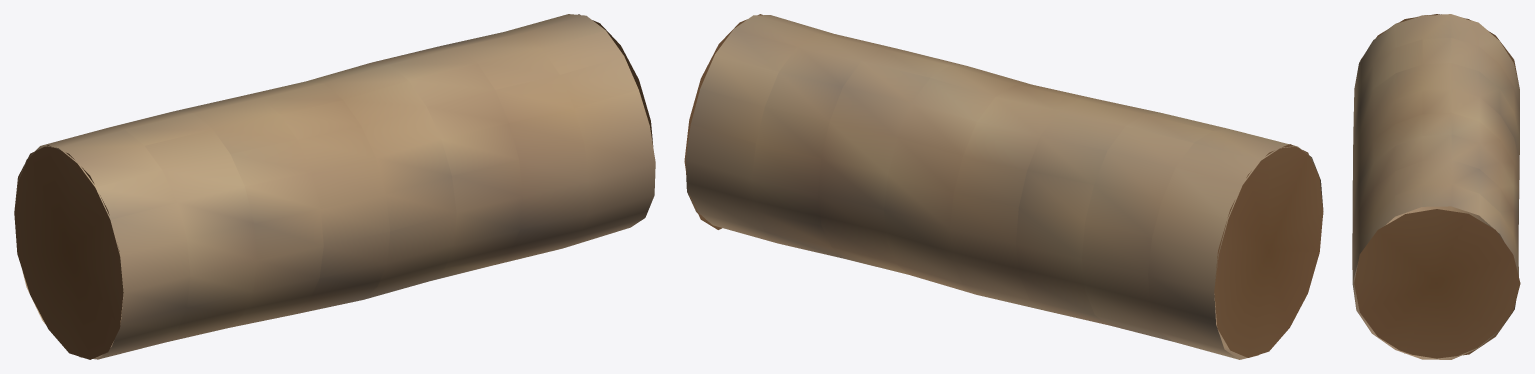
Rendered from PLN_Log_Cut.fbx.
3 views of the same model, side by side, from view 1: azimuth 30°, elevation 25°; view 2: azimuth 150°, elevation 25°; view 3: azimuth 270°, elevation 25° (orthographic). The views are drawn at different scales.
Visible parts, largest first — view 1: PLN_Log_Cut; view 2: PLN_Log_Cut; view 3: PLN_Log_Cut.
Part boxes in pixels (bbox=[...]): PLN_Log_Cut: bbox=[14, 14, 655, 359]; PLN_Log_Cut: bbox=[684, 14, 1323, 359]; PLN_Log_Cut: bbox=[1352, 14, 1520, 359].
Bounding box in the file's own units: 1.51 × 0.5539 × 0.5443.
